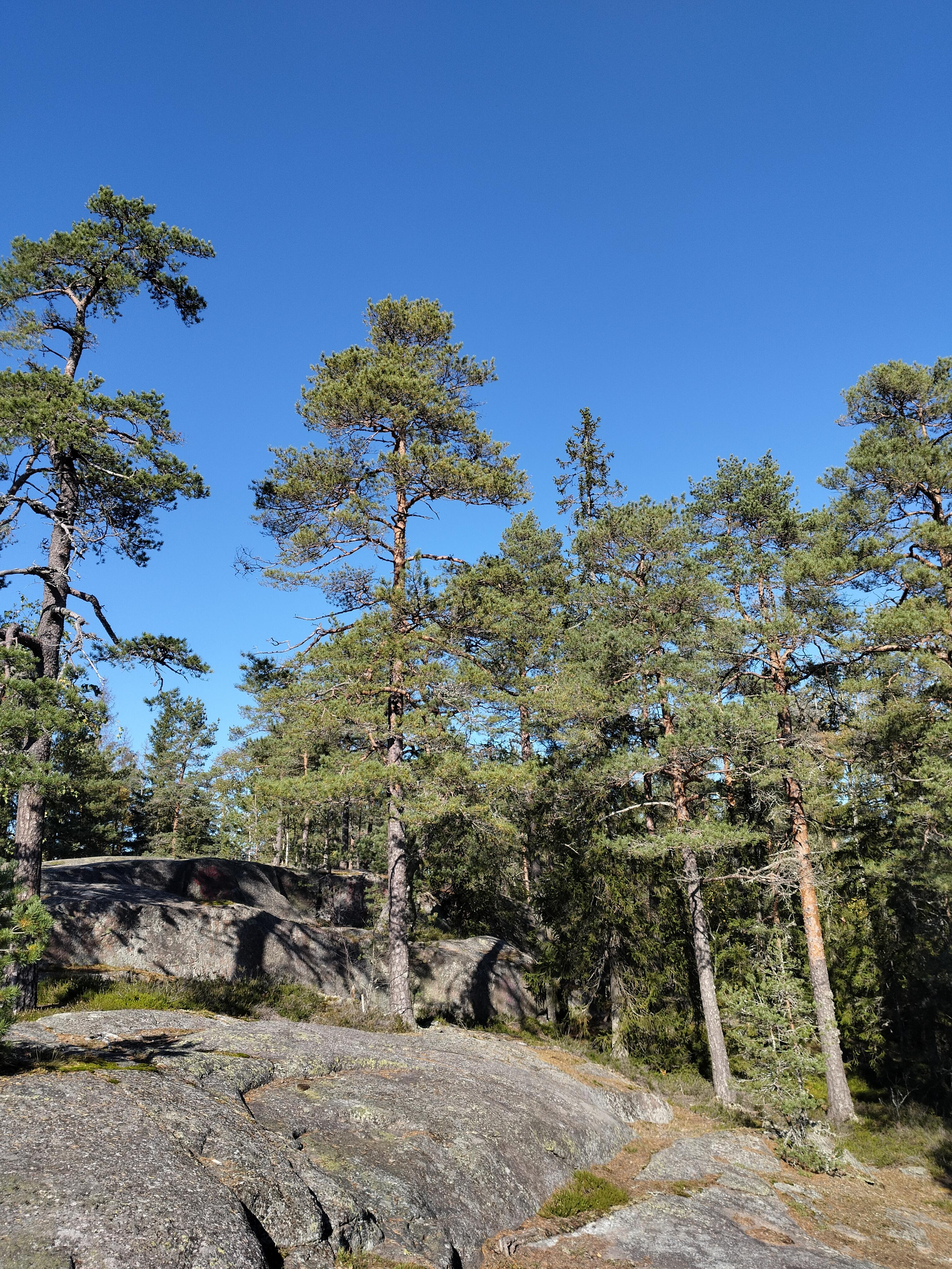Pine: (563, 431, 937, 1138), (232, 292, 534, 1031), (506, 428, 774, 1138), (0, 183, 216, 1016)
